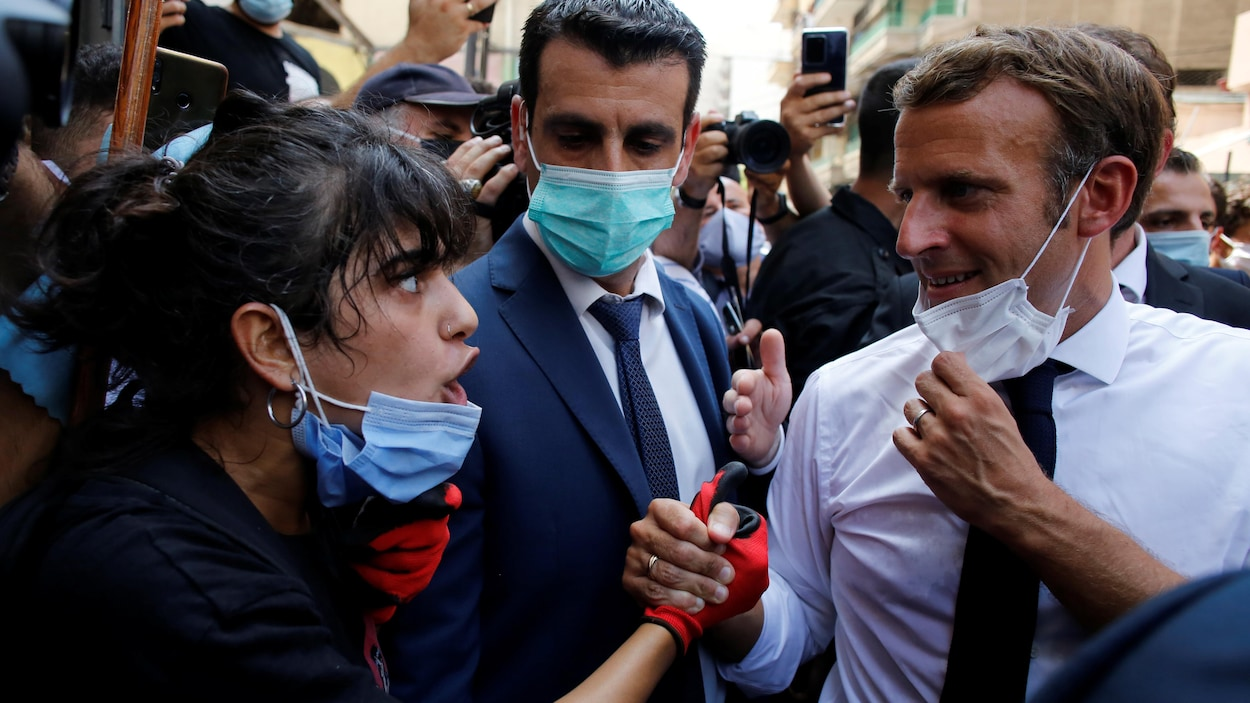with_incorrect_mask: (893, 121, 1056, 343), (346, 231, 476, 455)
with_mask: (540, 78, 670, 257)
